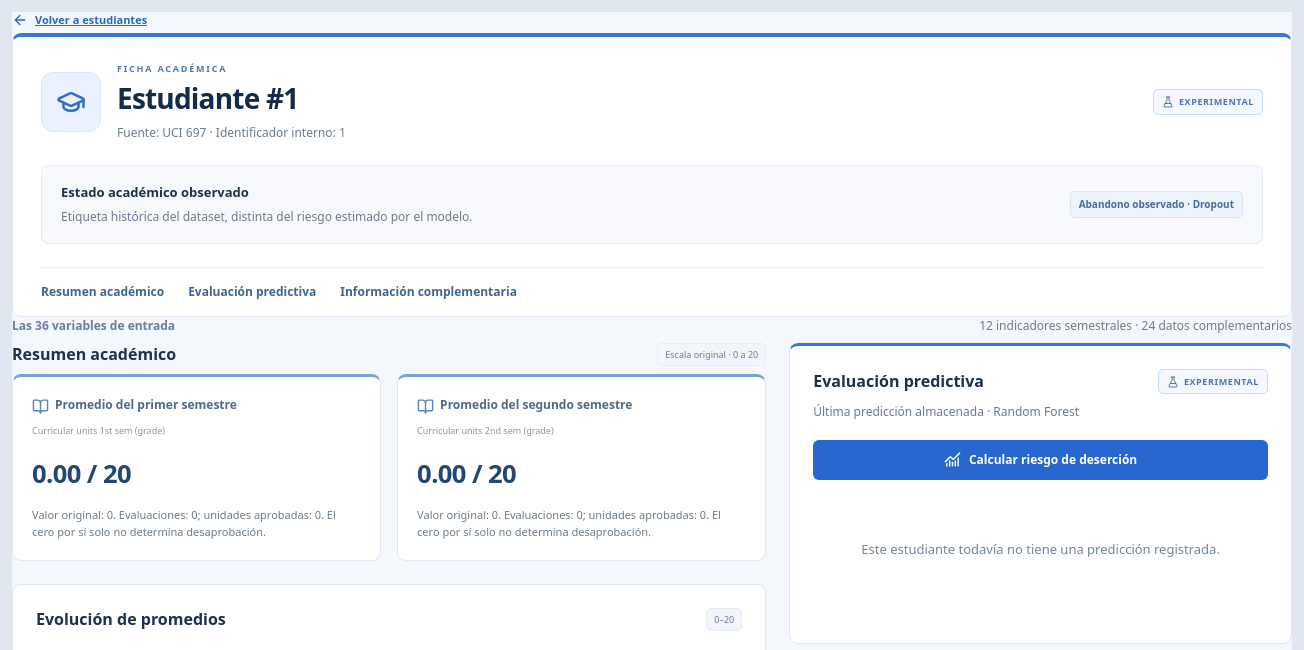
Test: semáforo y persistencia de consultas › trata 404 de predicción como ausencia, calcula por ID, invalida y actualiza sin recargar
Expected: the text "Este estudiante todavía no tiene una predicción registrada." is shown, x1=861 y1=540 x2=1220 y2=558
Click the button "Calcular riesgo de deserción". click: (1041, 460)
box: x1=813 y1=440 x2=1268 y2=480
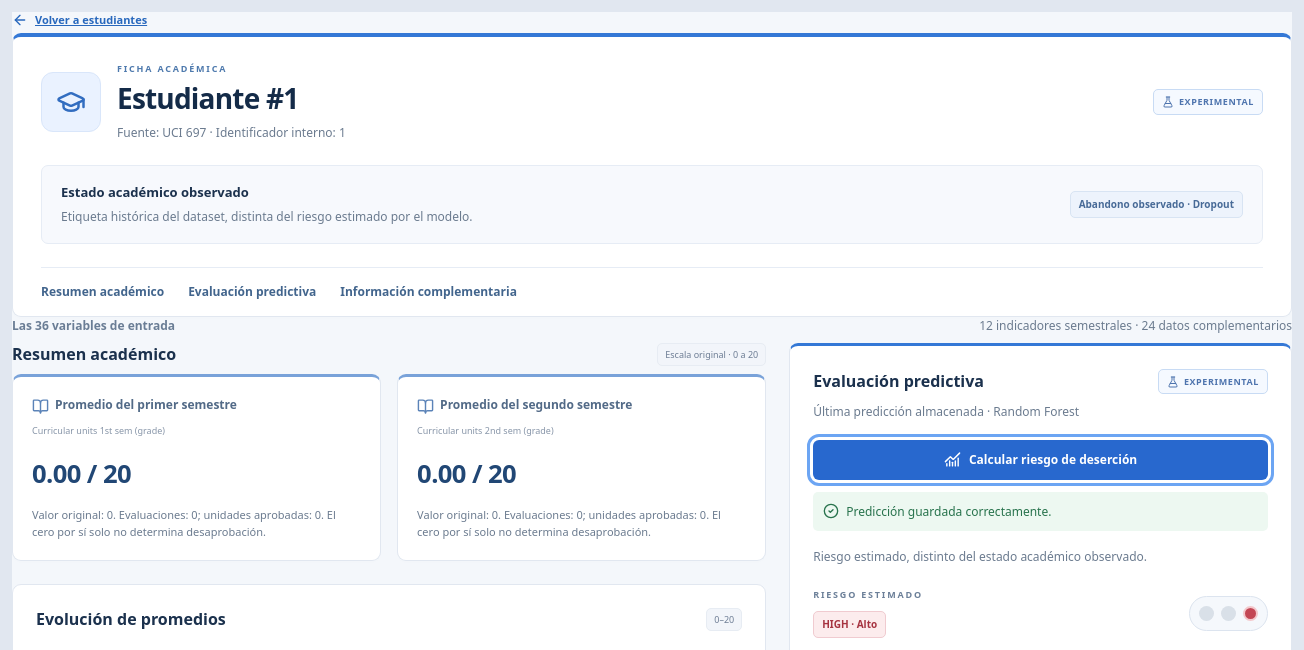
Now the text "Predicción guardada correctamente." is shown, box x1=813 y1=492 x2=1268 y2=531
Now the text "HIGH · Alto" is shown, box x1=813 y1=611 x2=886 y2=638
